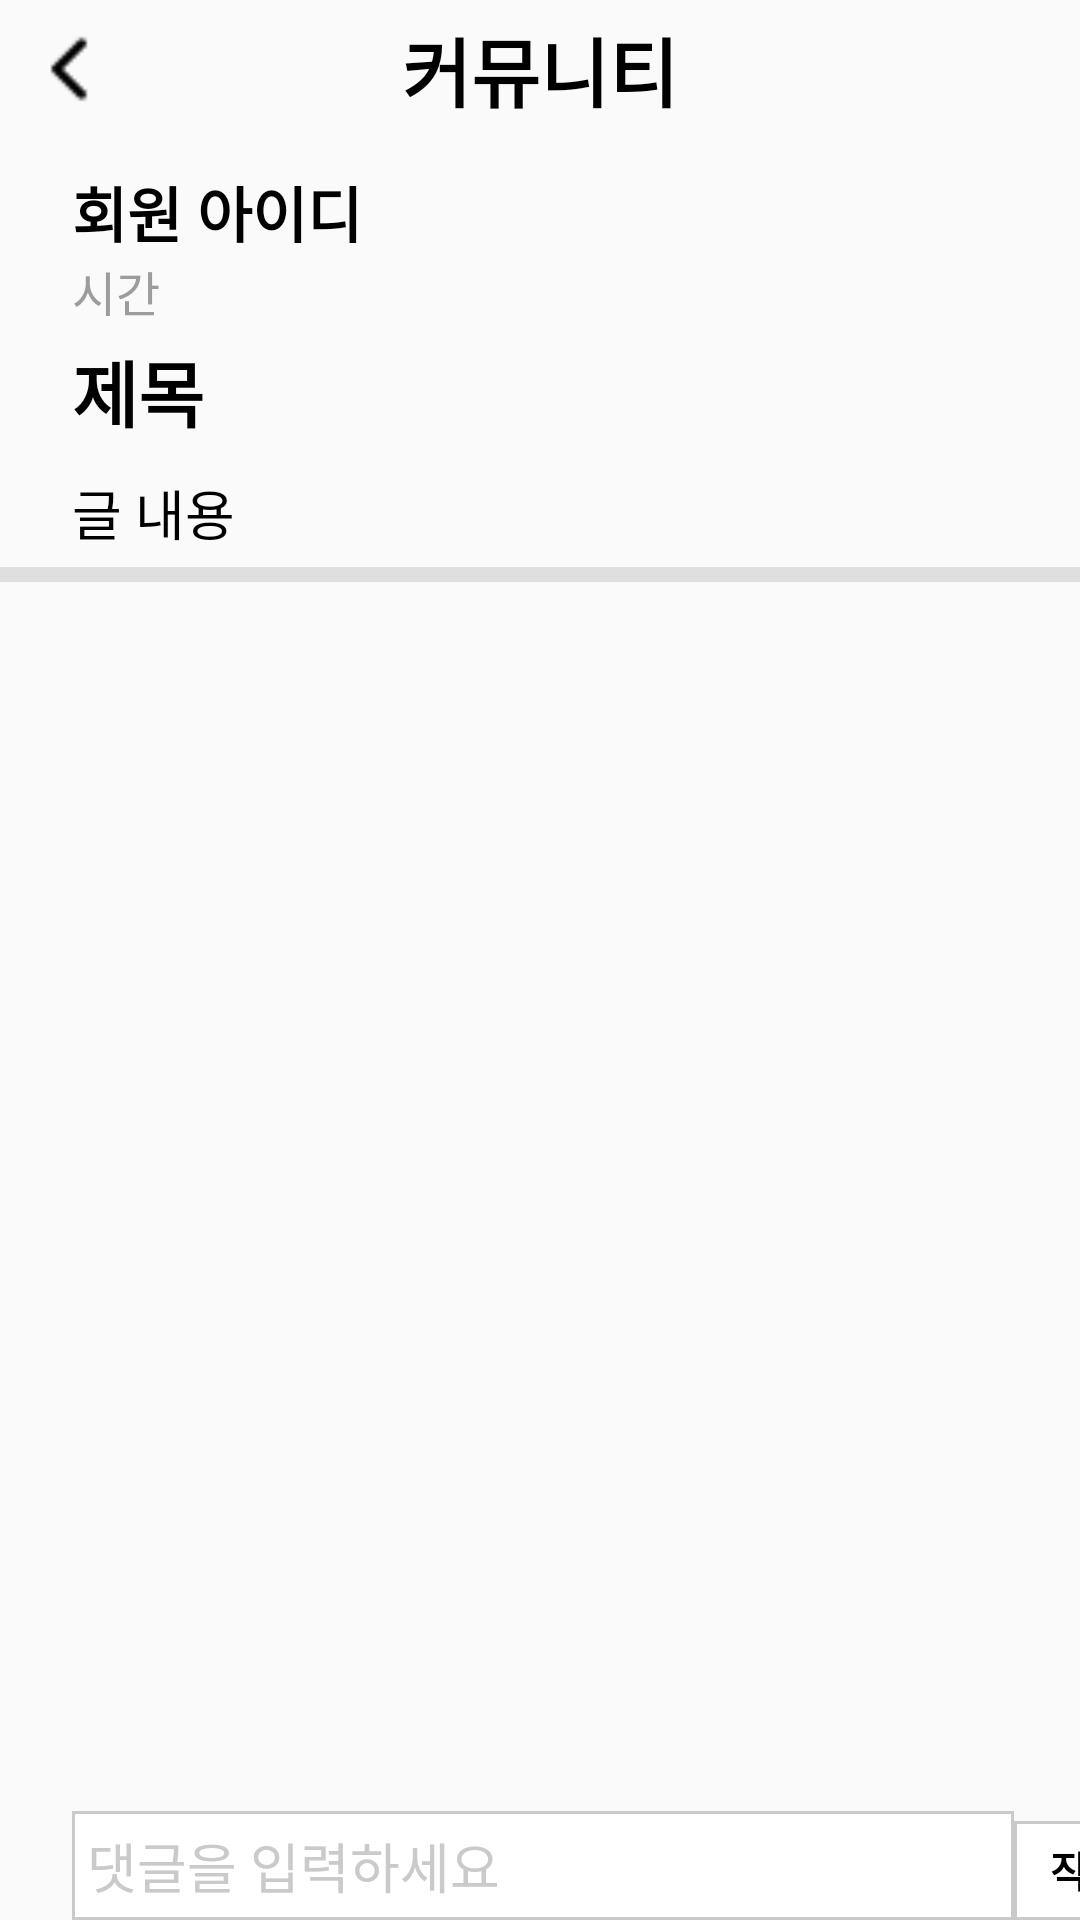

Point at icon controls on the screen. Image size 1080px×1920px, points as (x=x, y=y).
back: (x=69, y=69)
